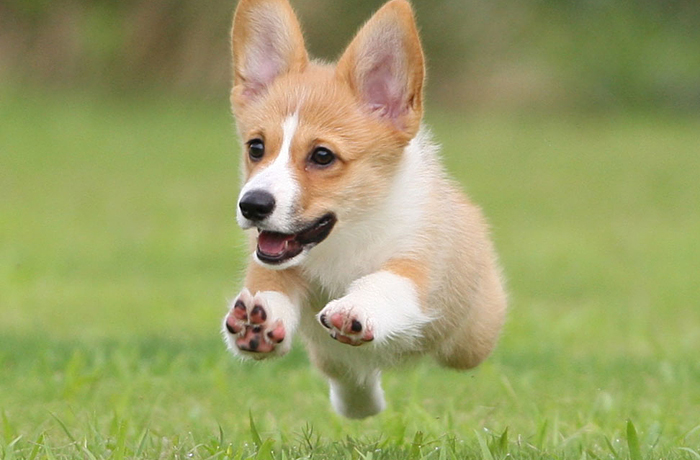dog: (220, 6, 513, 416)
